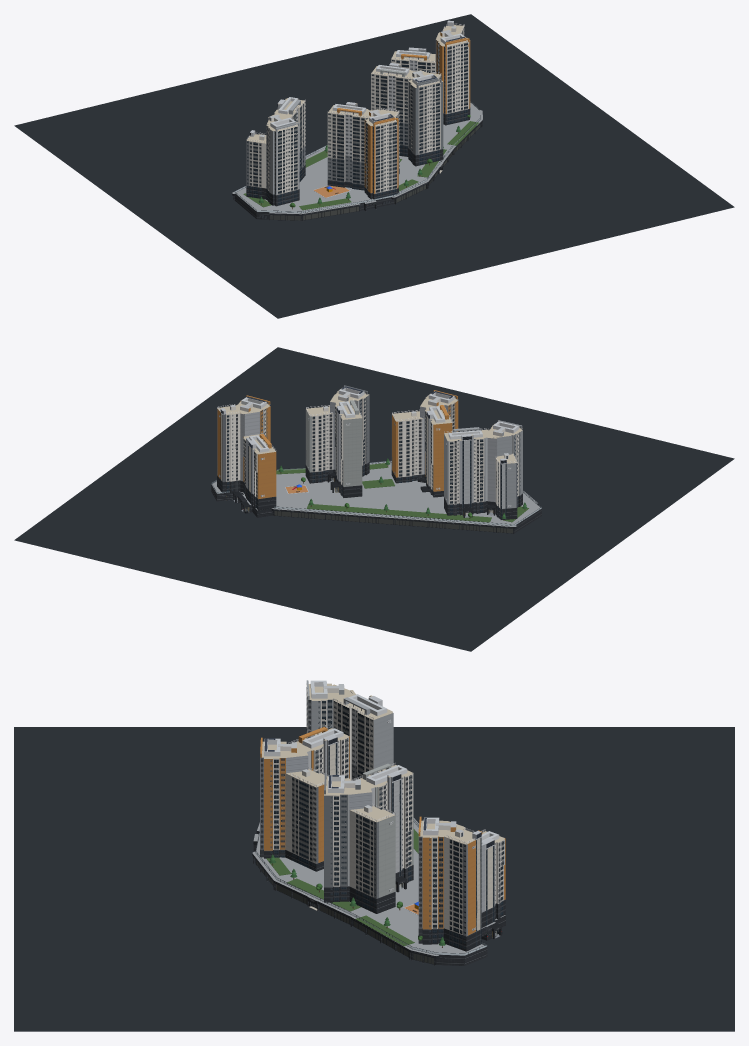
File: place_커뮤니티+102,106,107,108.glb
3 renders of one model, top to bottom at view 1: azimuth 30°, elevation 25°; view 2: azimuth 150°, elevation 25°; view 3: azimuth 270°, elevation 25°, orthographic. The views are drawn at different scales.
Visible parts, largest first — view 1: KumhoParkHills_106_107_108_102_Canopy_Community, Continuous_Community_Podium_530, WingA_NW_21F.001, WingC_South_21F.001, WingC_South_21F.002, WingC_South_20F, WingC_South_21F, WingA_NW_21F, WingB_NW_15F_118sqm, WingA_NE_20F, WingA_NW_15F; view 2: KumhoParkHills_106_107_108_102_Canopy_Community, Continuous_Community_Podium_530, WingA_NE_20F, WingA_NW_21F, WingB_NE_18F_164sqm, WingA_NW_15F, WingB_NE_18F_151sqm, WingB_NE_21F, WingA_NW_21F.001, WingB_NW_15F_118sqm, KumhoParkHills_102_UpperOnly, WingC_South_21F.001 (+4 smaller); view 3: KumhoParkHills_106_107_108_102_Canopy_Community, WingB_NE_18F_151sqm, WingB_NE_21F, Continuous_Community_Podium_530, WingA_NE_20F, WingB_NE_18F_164sqm, WingA_NW_21F, WingC_South_21F.001, WingC_South_21F, WingC_South_21F.002, WingA_NW_15F, WingA_NW_21F.001 (+2 smaller).
Part boxes in pixels (x1,y1,x2,y2): KumhoParkHills_106_107_108_102_Canopy_Community: (14, 14, 734, 318); Continuous_Community_Podium_530: (234, 103, 480, 220); WingA_NW_21F.001: (327, 102, 371, 190); WingC_South_21F.001: (408, 70, 443, 166); WingC_South_21F.002: (364, 109, 398, 199); WingC_South_20F: (266, 114, 299, 206); WingC_South_21F: (436, 30, 470, 125); WingA_NW_21F: (371, 63, 415, 156); WingB_NW_15F_118sqm: (246, 130, 266, 199); WingA_NE_20F: (274, 97, 305, 181); WingA_NW_15F: (391, 47, 435, 73); KumhoParkHills_106_107_108_102_Canopy_Community: (14, 347, 734, 651); Continuous_Community_Podium_530: (211, 462, 541, 533); WingA_NE_20F: (444, 427, 491, 517); WingA_NW_21F: (330, 399, 362, 497); WingB_NE_18F_164sqm: (391, 409, 424, 483); WingA_NW_15F: (243, 432, 276, 510); WingB_NE_18F_151sqm: (305, 405, 333, 483); WingB_NE_21F: (217, 404, 245, 492); WingA_NW_21F.001: (420, 404, 452, 497); WingB_NW_15F_118sqm: (495, 453, 517, 519); KumhoParkHills_102_UpperOnly: (487, 429, 511, 515); WingC_South_21F.001: (335, 385, 369, 476); KumhoParkHills_106_107_108_102_Canopy_Community: (14, 727, 734, 1031); WingB_NE_18F_151sqm: (349, 804, 395, 913); WingB_NE_21F: (441, 827, 481, 951); Continuous_Community_Podium_530: (255, 822, 487, 965); WingA_NE_20F: (333, 694, 393, 780); WingB_NE_18F_164sqm: (285, 767, 328, 871); WingA_NW_21F: (352, 763, 413, 892); WingC_South_21F.001: (324, 774, 360, 902); WingC_South_21F: (418, 816, 456, 944); WingC_South_21F.002: (260, 737, 296, 858); WingA_NW_15F: (478, 829, 505, 927); WingA_NW_21F.001: (288, 726, 349, 778).
Size of the model in its own units: 340 by 64.08 by 340.
793 materials, 390 textured.
